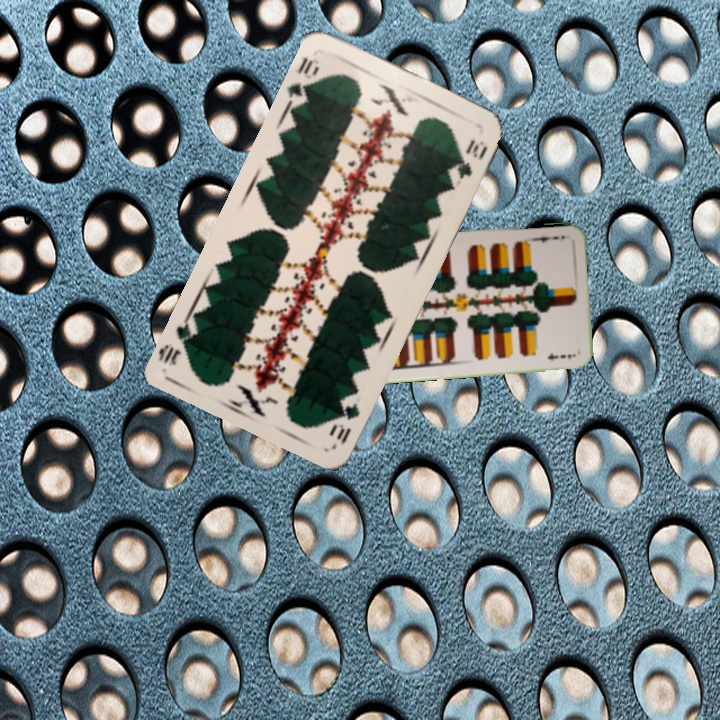E7: (531, 231, 567, 246)
G10: (283, 52, 322, 109), (325, 399, 363, 448)
